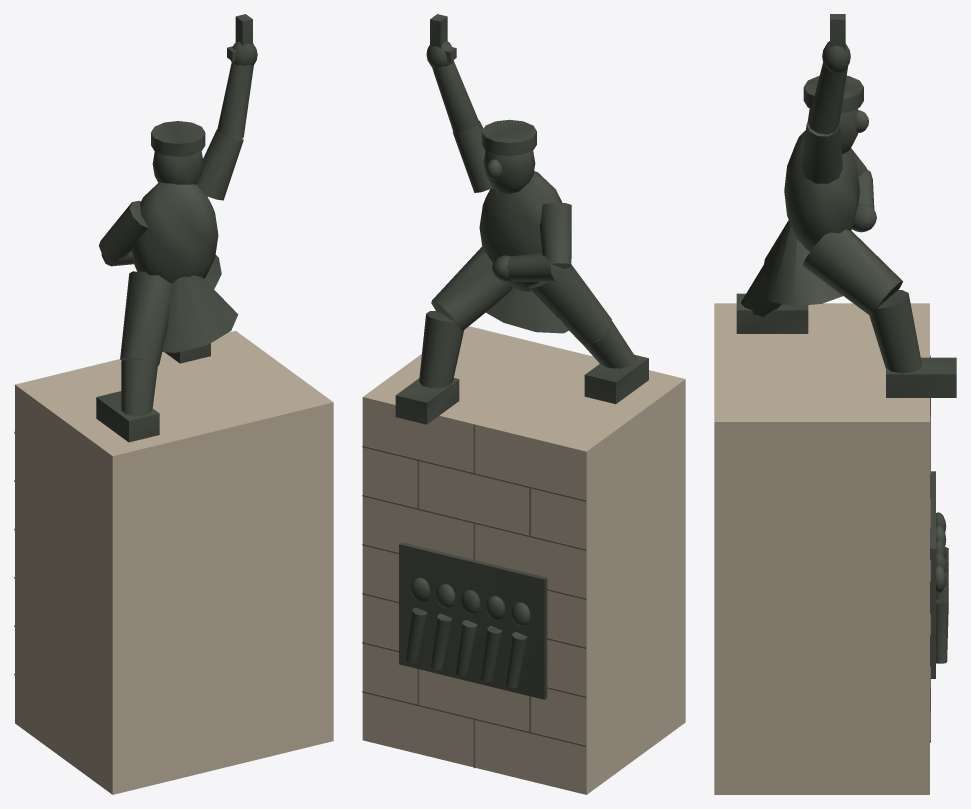
The model's file is monument-unknown-partisan.glb.
The picture shows the model from 3 angles, left to right: view 1: azimuth 30°, elevation 25°; view 2: azimuth 150°, elevation 25°; view 3: azimuth 270°, elevation 25°; orthographic projection. The views are drawn at different scales.
Parts seen in each view (by area): view 1: part-1, part-0; view 2: part-1, part-0, part-2; view 3: part-1, part-0.
Boxes of the visible parts, left/top/right/bottom form: part-1: left=15, top=330, right=333, bottom=794; part-0: left=96, top=14, right=257, bottom=442; part-1: left=362, top=326, right=685, bottom=794; part-0: left=395, top=14, right=648, bottom=699; part-2: left=362, top=424, right=586, bottom=768; part-1: left=714, top=303, right=929, bottom=794; part-0: left=736, top=14, right=956, bottom=678.
Bounding box in the file's own units: 2.15 × 6.42 × 1.85.
